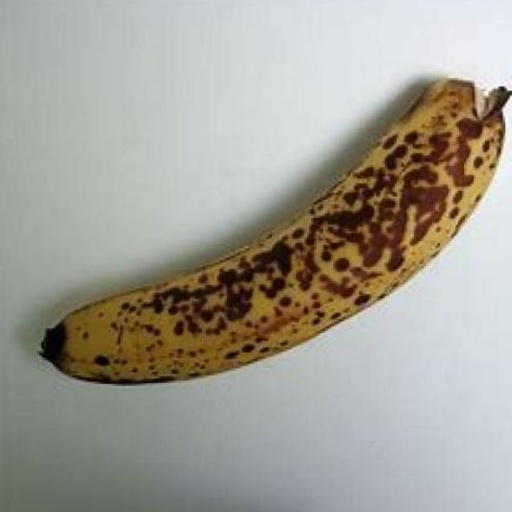fruit: (42, 80, 510, 382)
